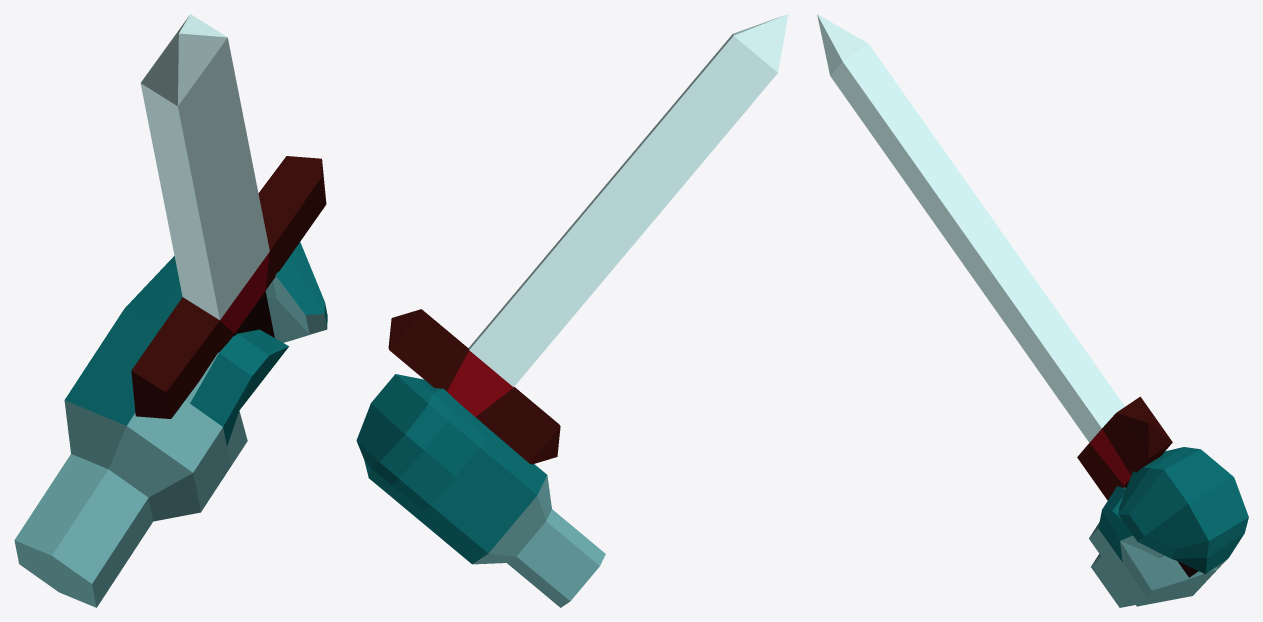
Rendered from martial_damage.glb.
3 views of the same model, side by side, from view 1: azimuth 30°, elevation 25°; view 2: azimuth 150°, elevation 25°; view 3: azimuth 270°, elevation 25° (orthographic). The views are drawn at different scales.
Parts seen in each view (by area): view 1: Cube; view 2: Cube; view 3: Cube.
Part boxes in pixels (bbox=[...]): Cube: bbox=[14, 14, 327, 607]; Cube: bbox=[356, 14, 788, 607]; Cube: bbox=[817, 14, 1248, 607].
Bounding box in the file's own units: 1.96 × 3.61 × 2.57.
2 materials, 2 textured.
